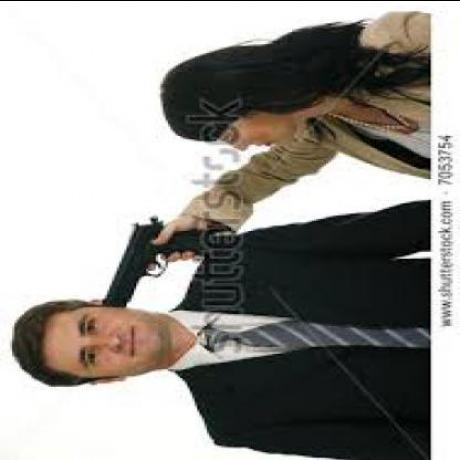1: (11, 202, 442, 455), (162, 0, 430, 218)
weapon: (94, 218, 220, 310)
